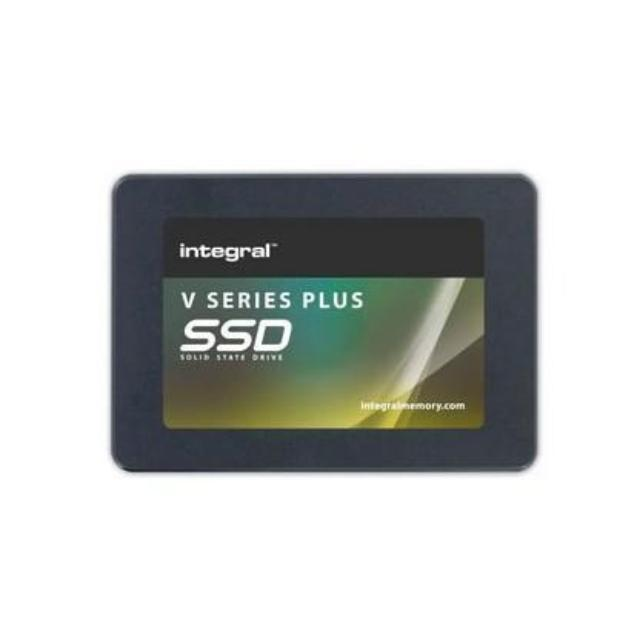DISK: (106, 169, 542, 477)
